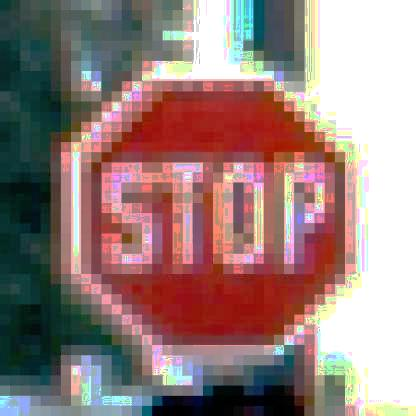Stop Sign: (58, 60, 357, 364)
